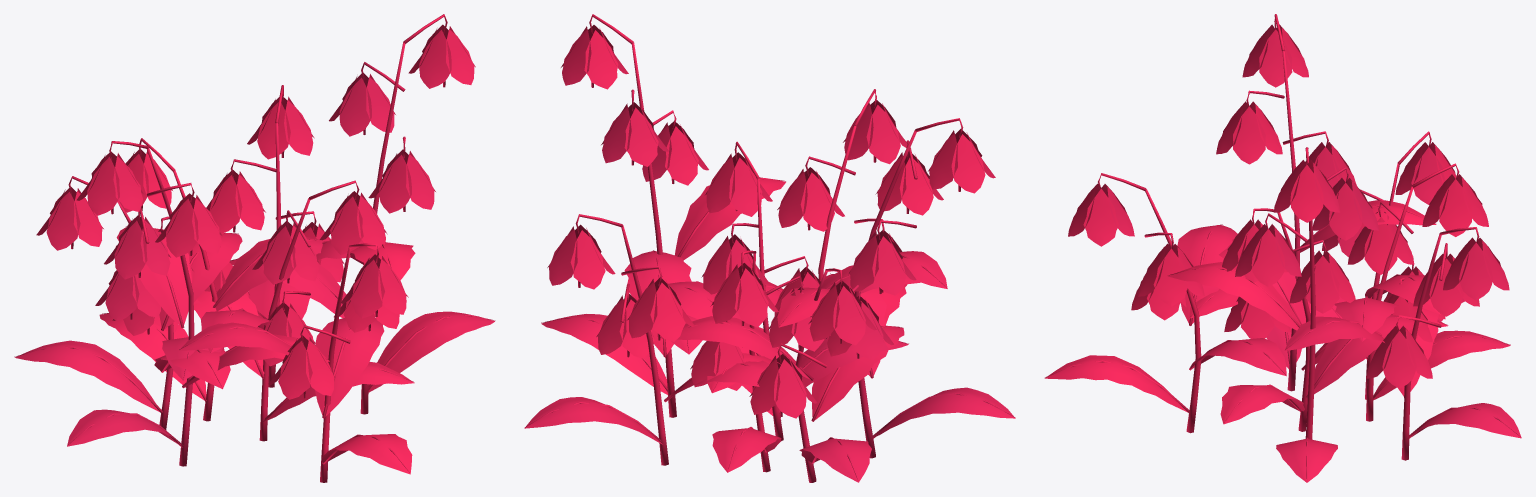
The model's file is SM_LW_MeadowFlowers.fbx.
The picture shows the model from 3 angles, left to right: view 1: azimuth 30°, elevation 25°; view 2: azimuth 150°, elevation 25°; view 3: azimuth 270°, elevation 25°; orthographic projection. The views are drawn at different scales.
Visible parts, largest first — view 1: SM_LW_MeadowFlowers; view 2: SM_LW_MeadowFlowers; view 3: SM_LW_MeadowFlowers.
Part boxes in pixels (x1,y1,x2,y2): SM_LW_MeadowFlowers: (14,14,495,482); SM_LW_MeadowFlowers: (524,14,1015,482); SM_LW_MeadowFlowers: (1044,14,1521,482).
Size of the model in its own units: 74.93 by 78.92 by 63.67.
